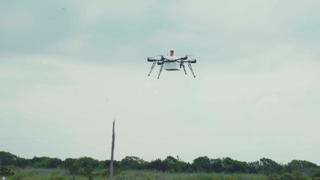UAV: (144, 50, 198, 79)
